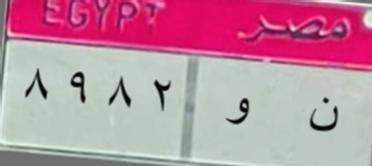2: (149, 76, 176, 116)
8: (20, 64, 52, 104), (106, 72, 135, 116)
9: (66, 66, 92, 113)
noon: (304, 96, 342, 136)
waw: (226, 96, 255, 130)
